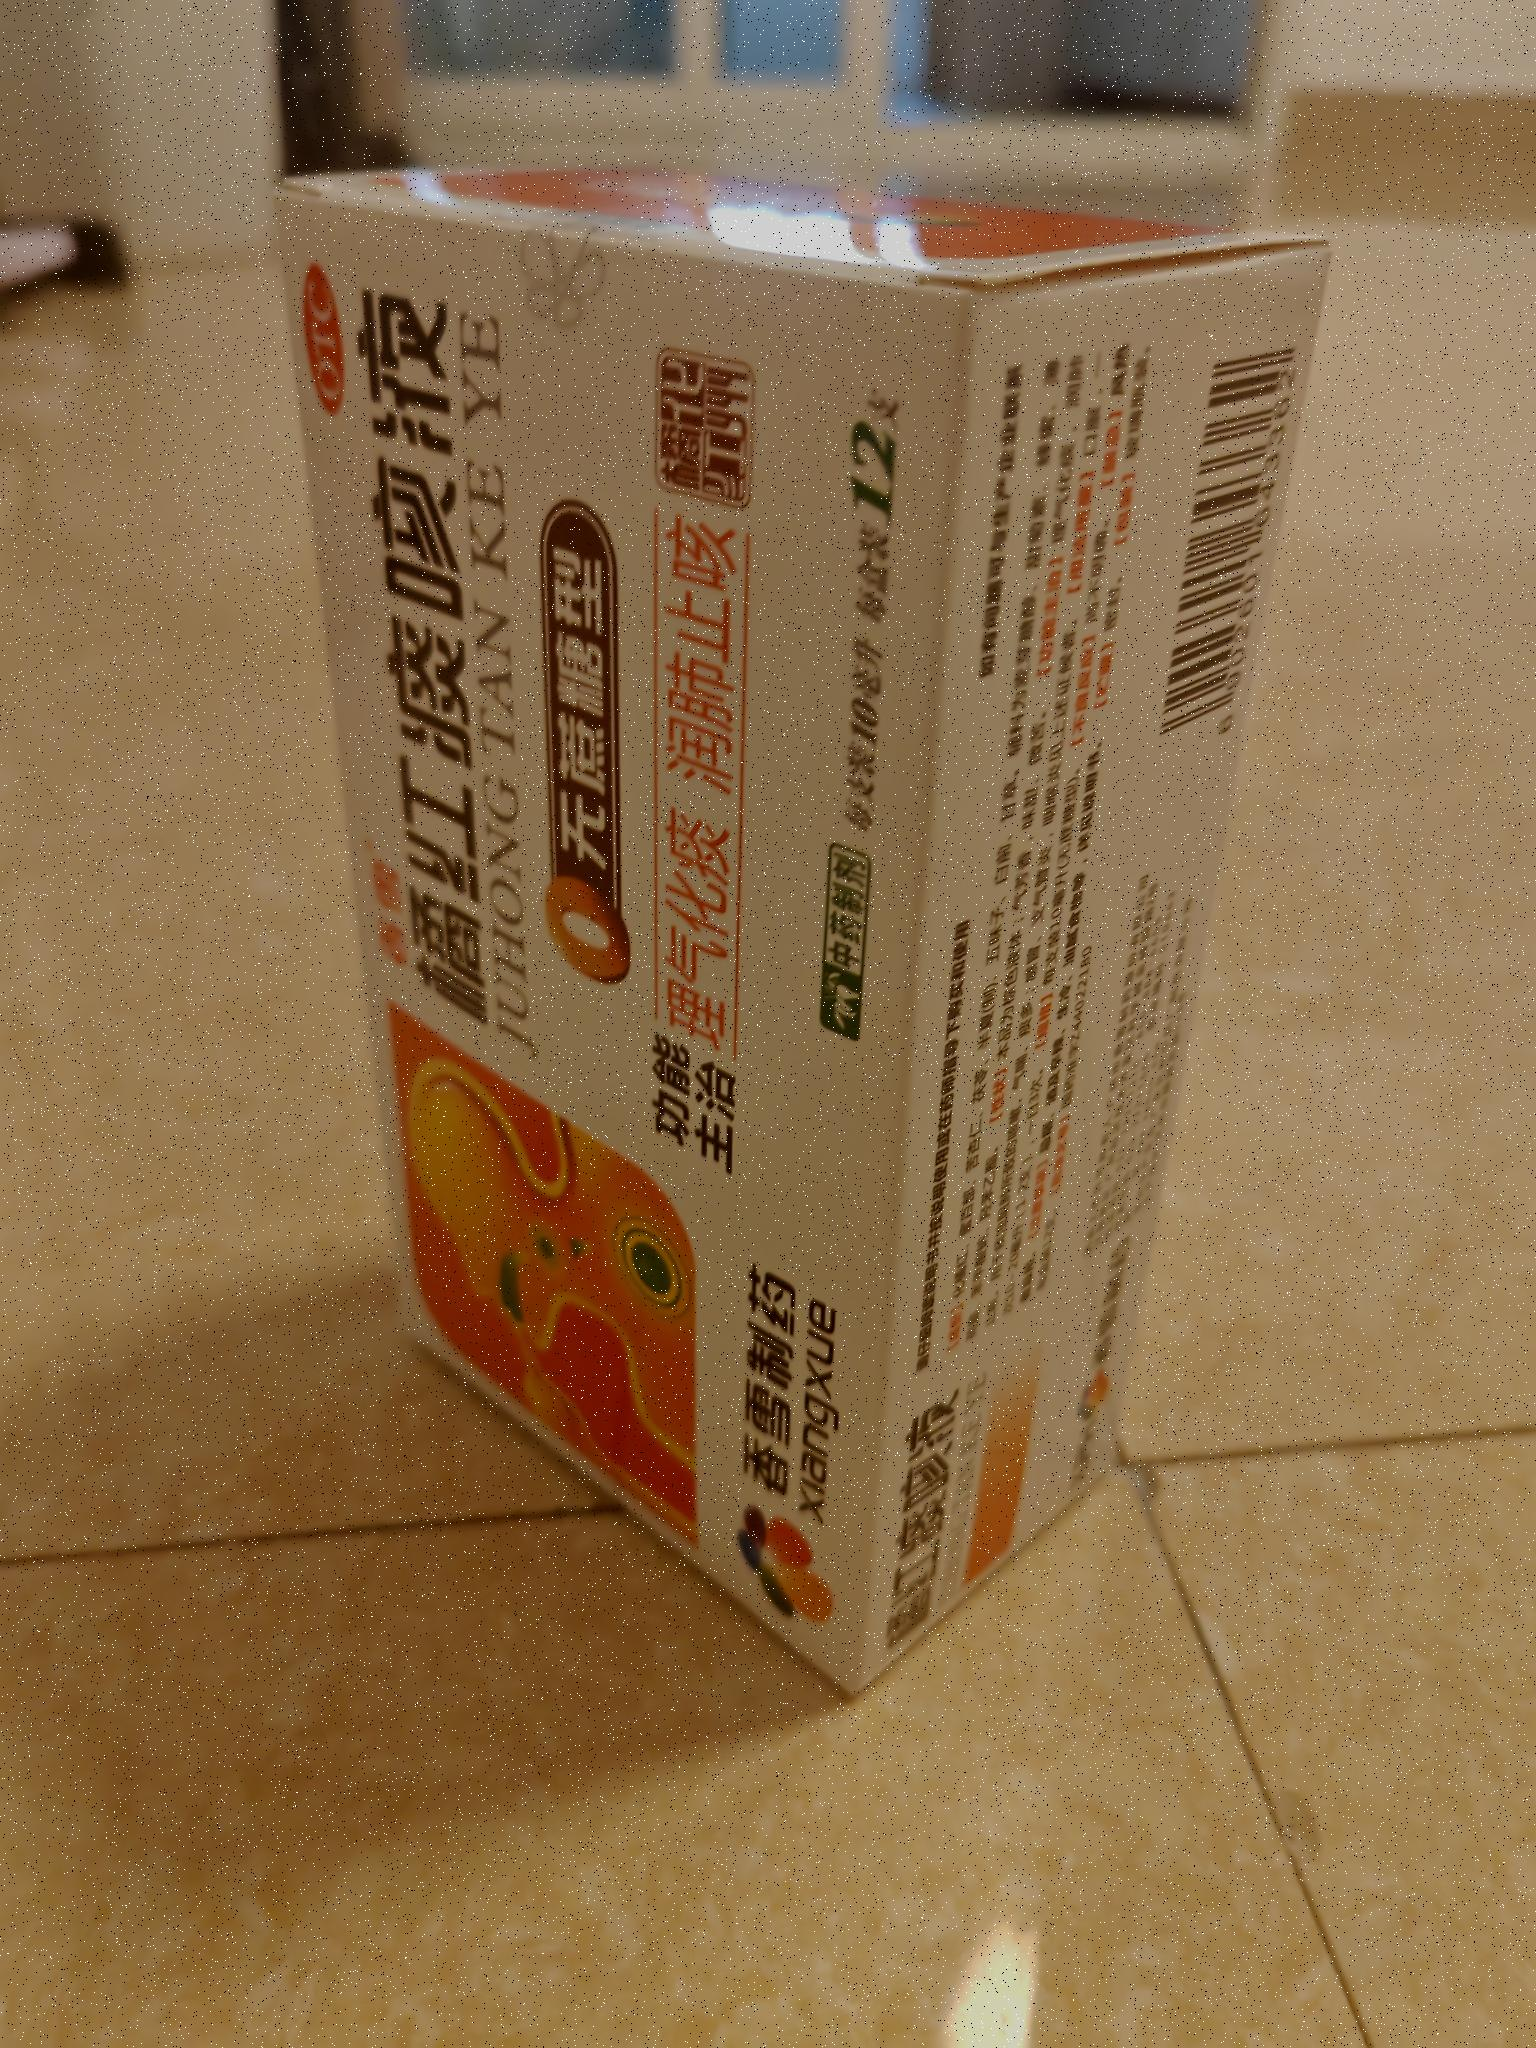Medicine1: (245, 135, 1360, 1721)
